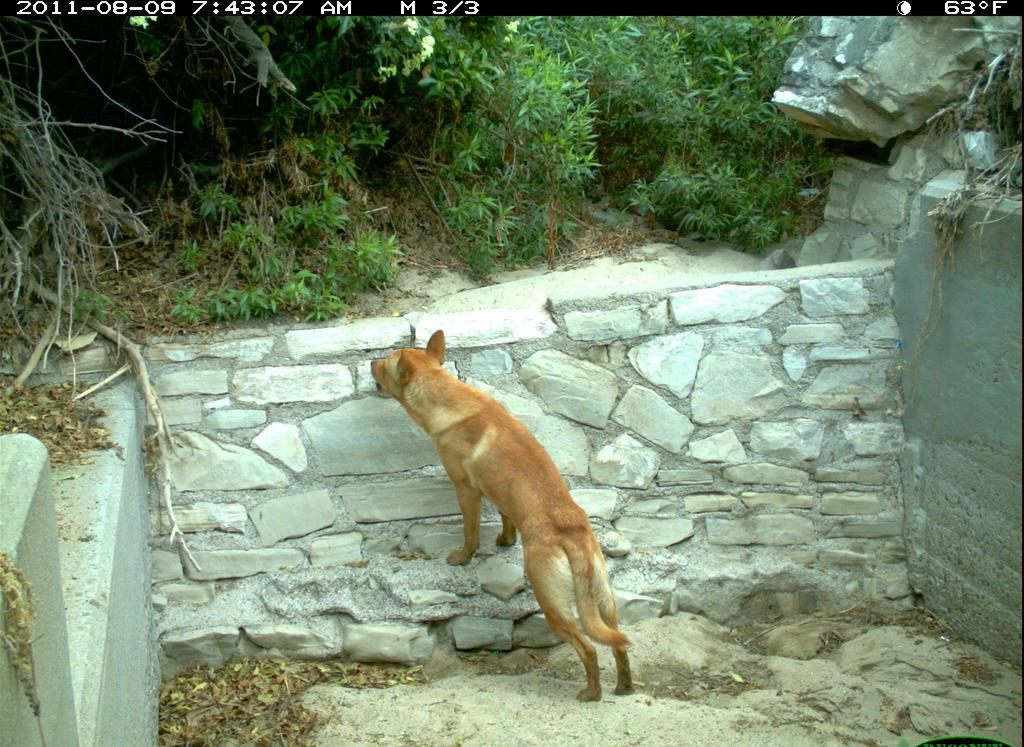dog: (369, 328, 644, 708)
